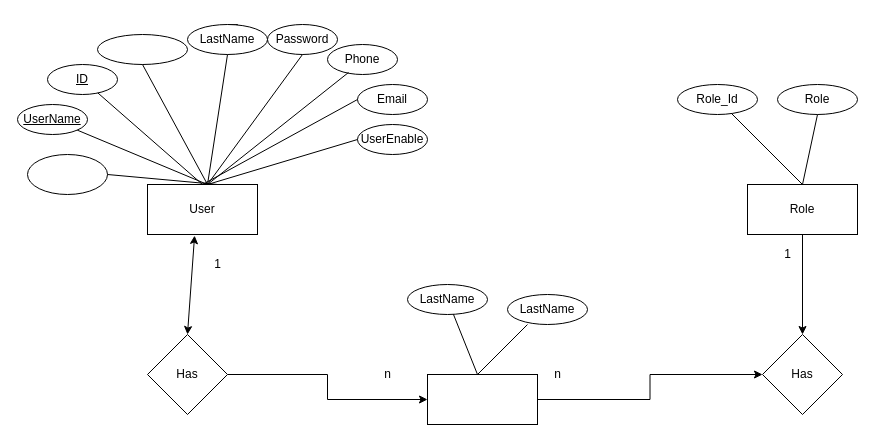
Image size: 875x442. Some labels were removed from this diagram. Each missing label, with the centre of its shape:
About: (x=67, y=174)
FirstName: (x=142, y=49)
User_Role: (x=482, y=399)
